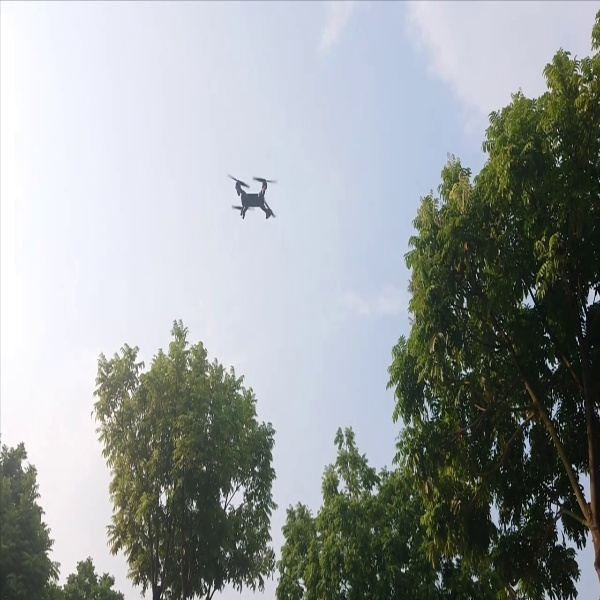drone: (221, 162, 288, 229)
